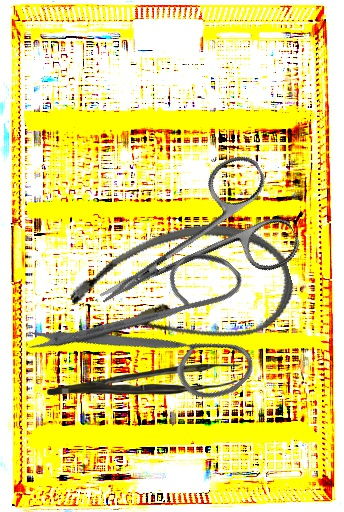Cannula: (60, 202, 304, 381)
Iris Scissors: (19, 199, 297, 475), (71, 146, 306, 349)
Tissue Forceps: (47, 364, 241, 395)
